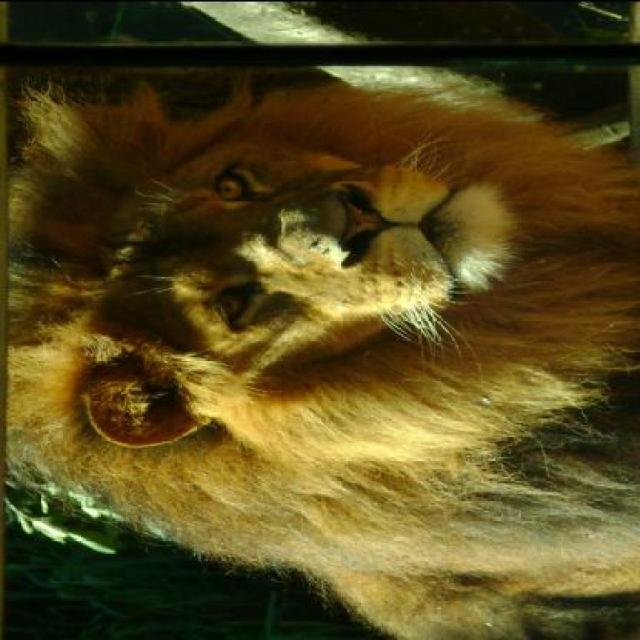Lion: (6, 40, 639, 571)
